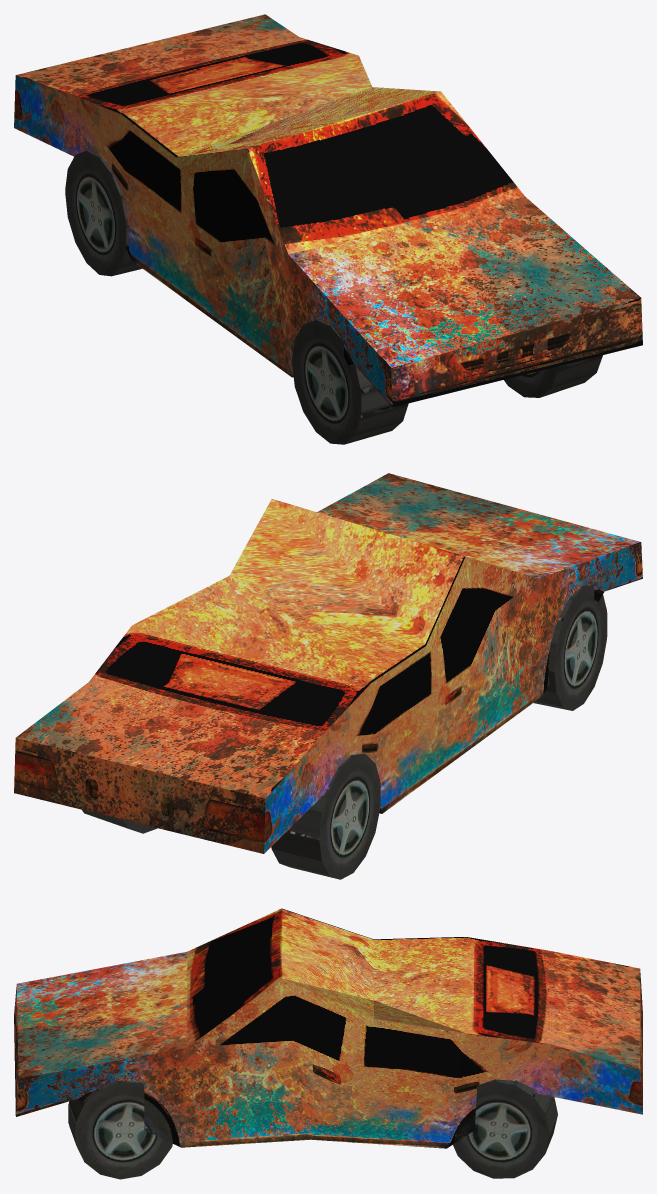
File: car3.fbx
3 renders of one model, top to bottom at view 1: azimuth 30°, elevation 25°; view 2: azimuth 150°, elevation 25°; view 3: azimuth 270°, elevation 25°, orthographic. The views are drawn at different scales.
Parts seen in each view (by area): view 1: car; view 2: car; view 3: car.
Part boxes in pixels (bbox=[...]): car: bbox=[14, 14, 642, 444]; car: bbox=[14, 473, 642, 879]; car: bbox=[14, 908, 642, 1179].
Bounding box in the file's own units: 196 × 165 × 498.
